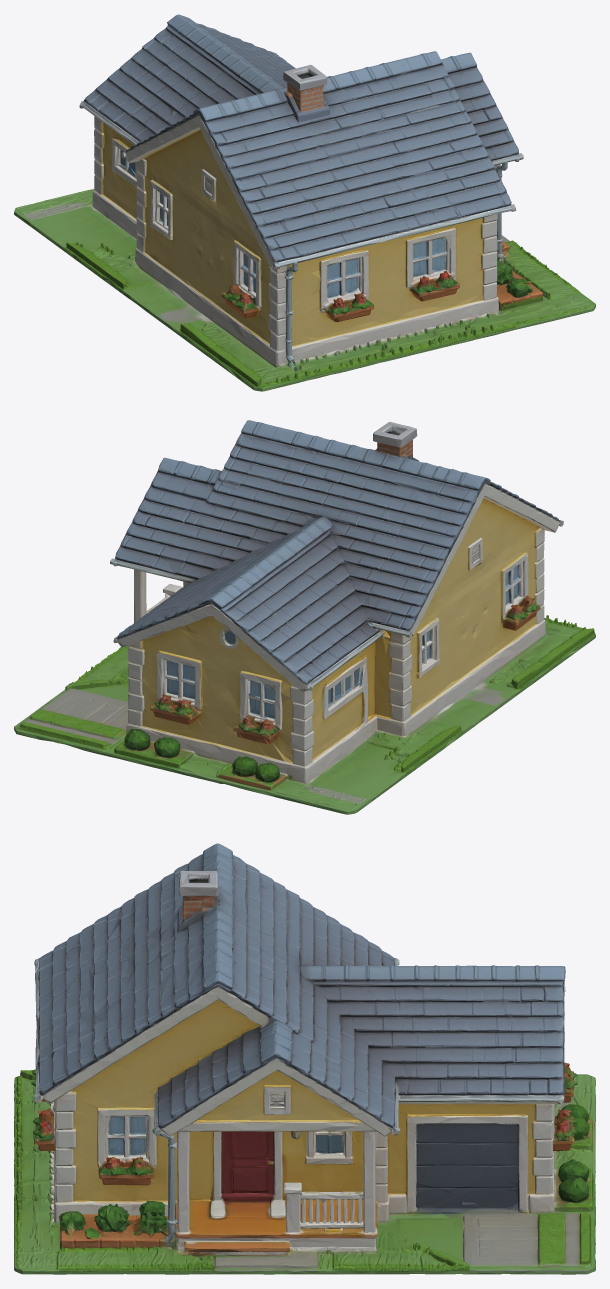
File: house_1storyD_yellow.glb
3 views of the same model, one above another, from view 1: azimuth 30°, elevation 25°; view 2: azimuth 150°, elevation 25°; view 3: azimuth 270°, elevation 25° (orthographic). The views are drawn at different scales.
Visible parts, largest first — view 1: tripo_node_ec7d8983-c7bd-4fe1-b4ff-4c023d304d32; view 2: tripo_node_ec7d8983-c7bd-4fe1-b4ff-4c023d304d32; view 3: tripo_node_ec7d8983-c7bd-4fe1-b4ff-4c023d304d32.
Part boxes in pixels (box(x1,y1,x2,y2)): tripo_node_ec7d8983-c7bd-4fe1-b4ff-4c023d304d32: box(14, 14, 595, 391); tripo_node_ec7d8983-c7bd-4fe1-b4ff-4c023d304d32: box(14, 420, 595, 814); tripo_node_ec7d8983-c7bd-4fe1-b4ff-4c023d304d32: box(14, 843, 595, 1274).
Size of the model in its own units: 0.7991 by 0.5174 by 1.
1 material, 1 textured.
